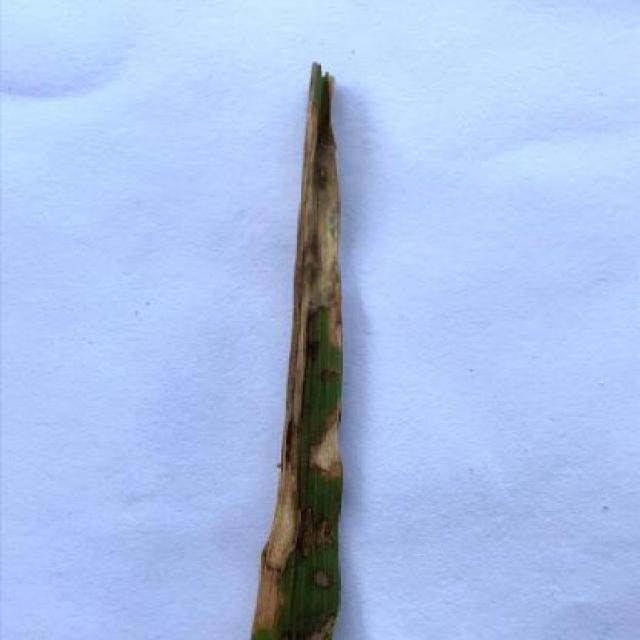Brown_Spot: (250, 44, 355, 640)
